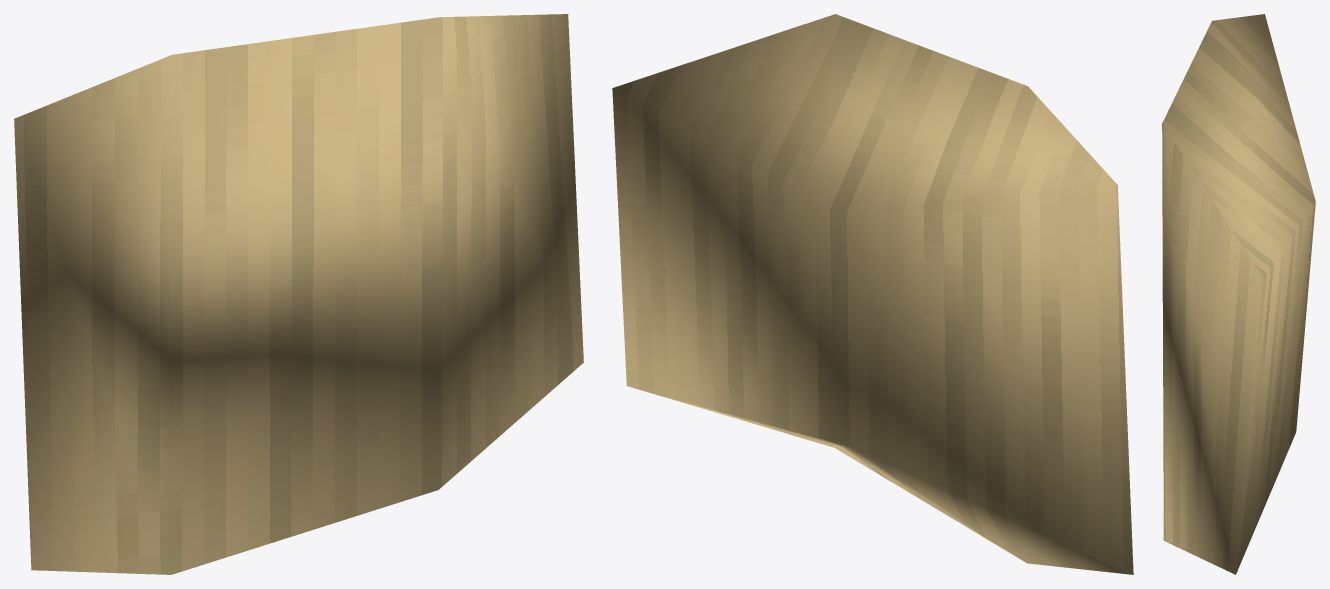
The model's file is Savsmuld.fbx.
3 views of the same model, side by side, from view 1: azimuth 30°, elevation 25°; view 2: azimuth 150°, elevation 25°; view 3: azimuth 270°, elevation 25° (orthographic). The views are drawn at different scales.
Parts seen in each view (by area): view 1: TraeFlage; view 2: TraeFlage; view 3: TraeFlage.
Part boxes in pixels (x1,y1,x2,y2): TraeFlage: (14, 14, 583, 574); TraeFlage: (612, 14, 1133, 574); TraeFlage: (1162, 14, 1315, 574).
Size of the model in its own units: 4.17 by 3.75 by 1.14.
